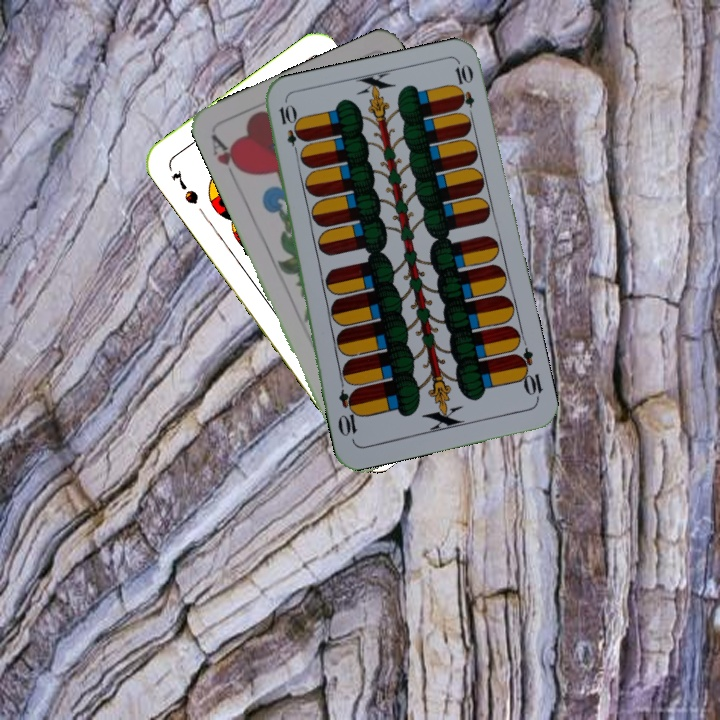E10: (510, 345, 545, 403), (275, 100, 304, 160)
HA: (207, 130, 248, 186)
S7: (167, 165, 202, 207)
